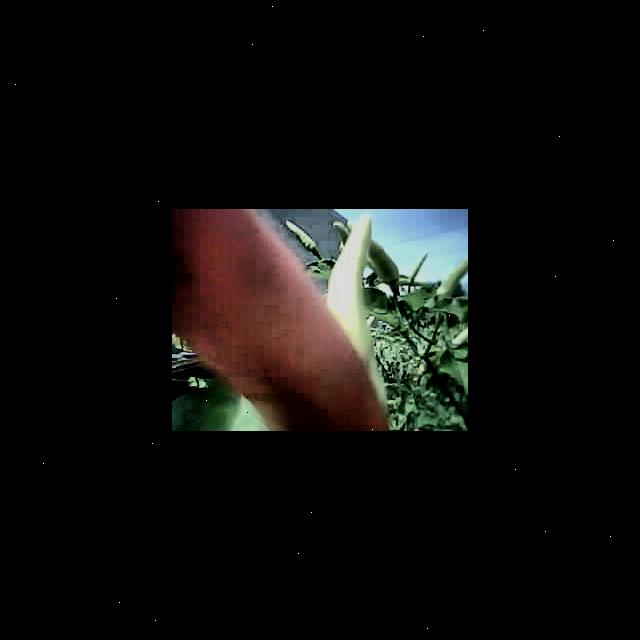Cabai: (172, 209, 275, 384)
